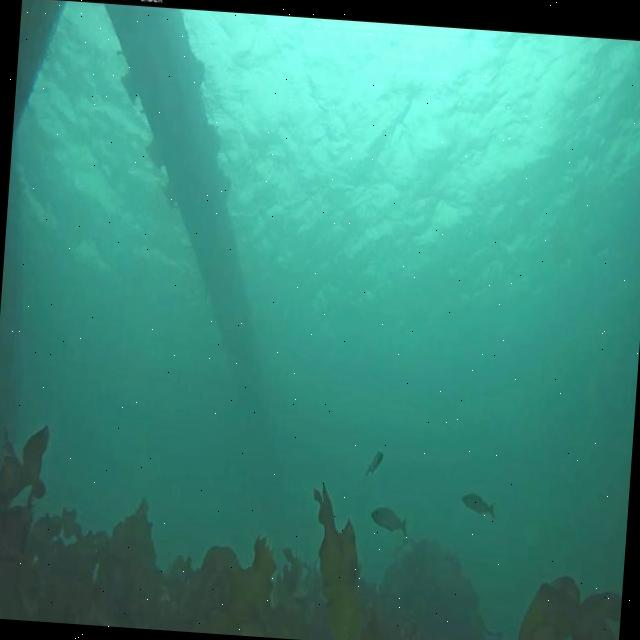fish: (368, 504, 411, 538), (458, 488, 499, 522), (366, 449, 384, 480)
